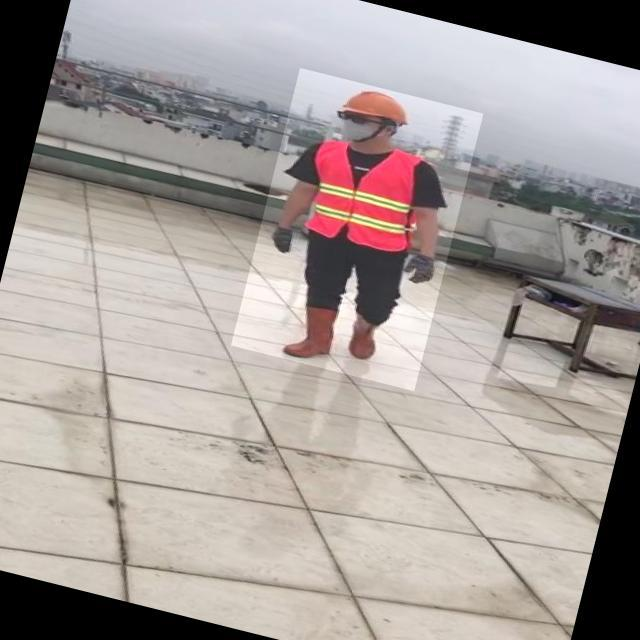Gloves: (402, 250, 441, 289), (266, 222, 301, 255)
Helmet: (339, 83, 416, 128)
Human: (230, 68, 483, 391)
Safety Boot: (283, 299, 345, 366), (342, 312, 386, 364)
Safety Vest: (298, 135, 427, 257)
